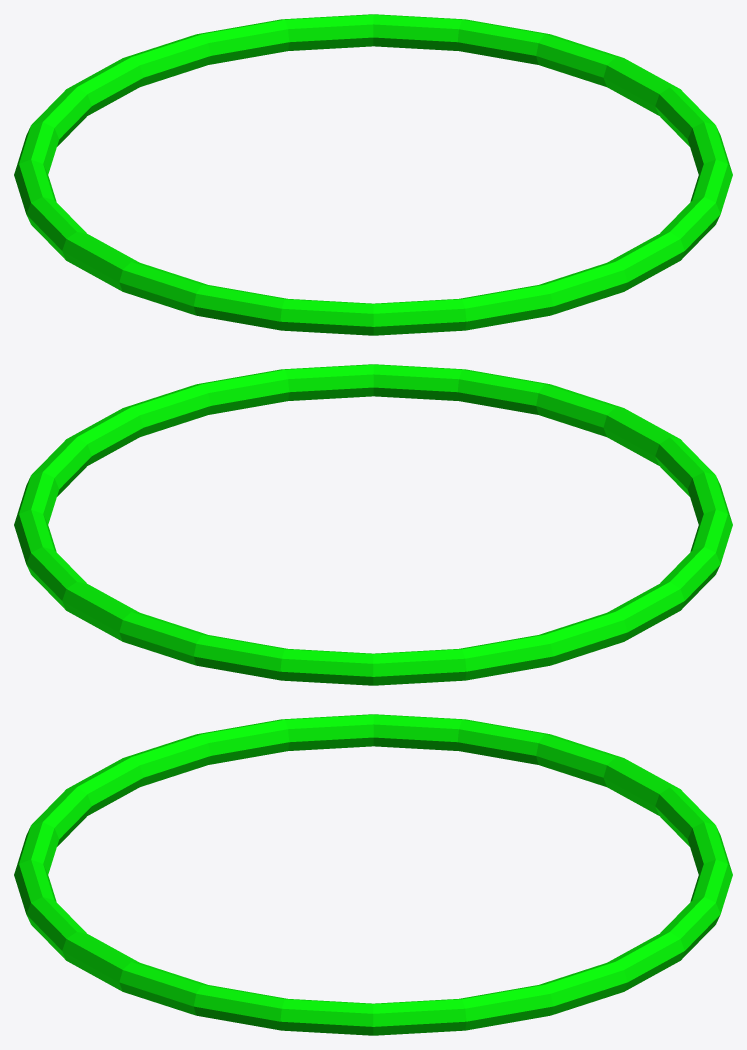
Rendered from gimbalY.glb.
3 views of the same model, one above another, from view 1: azimuth 30°, elevation 25°; view 2: azimuth 150°, elevation 25°; view 3: azimuth 270°, elevation 25° (orthographic).
Parts seen in each view (by area): view 1: Torus; view 2: Torus; view 3: Torus.
Boxes of the visible parts, <box> form: Torus: <box>14,14,732,335</box>; Torus: <box>14,364,732,685</box>; Torus: <box>14,714,732,1035</box>.
Size of the model in its own units: 2.1 by 0.1 by 2.1.
